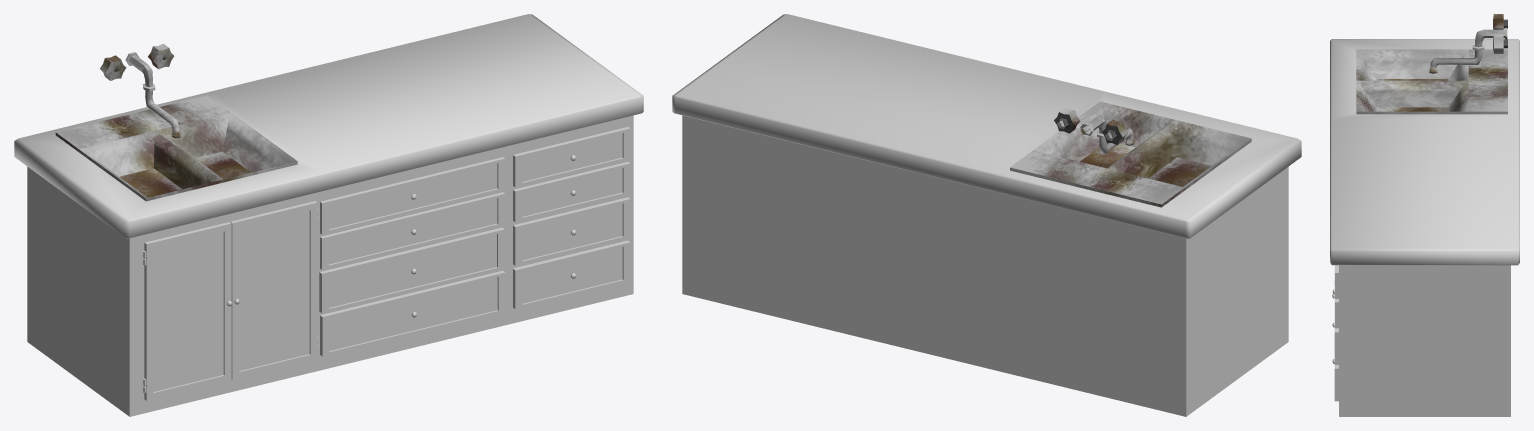
The model's file is kitchen_sink.glb.
The picture shows the model from 3 angles, left to right: view 1: azimuth 30°, elevation 25°; view 2: azimuth 150°, elevation 25°; view 3: azimuth 270°, elevation 25°; orthographic projection. The views are drawn at different scales.
Visible parts, largest first — view 1: mesada, Cilindro.001_sarten_0, puerta1, puerta 2, cajon4, cajon3, cajon1, cajon2, cajon7_mesada_0.002, cajon7, cajon5_mesada_0.002, cajon5; view 2: mesada, Cilindro.001_sarten_0; view 3: mesada, Cilindro.001_sarten_0, Cilindro.003, cajon7.
Boxes of the visible parts, bbox=[...] form: mesada: bbox=[14, 14, 643, 416]; Cilindro.001_sarten_0: bbox=[55, 43, 297, 201]; puerta1: bbox=[144, 222, 231, 400]; puerta 2: bbox=[230, 201, 317, 379]; cajon4: bbox=[320, 270, 505, 356]; cajon3: bbox=[319, 227, 504, 313]; cajon1: bbox=[320, 157, 505, 234]; cajon2: bbox=[320, 192, 504, 269]; cajon7_mesada_0.002: bbox=[513, 240, 630, 309]; cajon7: bbox=[513, 197, 630, 265]; cajon5_mesada_0.002: bbox=[513, 162, 630, 222]; cajon5: bbox=[513, 127, 630, 187]; mesada: bbox=[672, 14, 1301, 416]; Cilindro.001_sarten_0: bbox=[1010, 101, 1251, 207]; mesada: bbox=[1330, 39, 1519, 416]; Cilindro.001_sarten_0: bbox=[1356, 14, 1507, 114]; Cilindro.003: bbox=[1429, 50, 1482, 73]; cajon7: bbox=[1334, 285, 1338, 364].
Size of the model in its own units: 2.65 by 1.31 by 0.9973.
2 materials, 1 textured.
